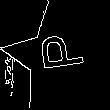P_W: (30, 36, 85, 80)
